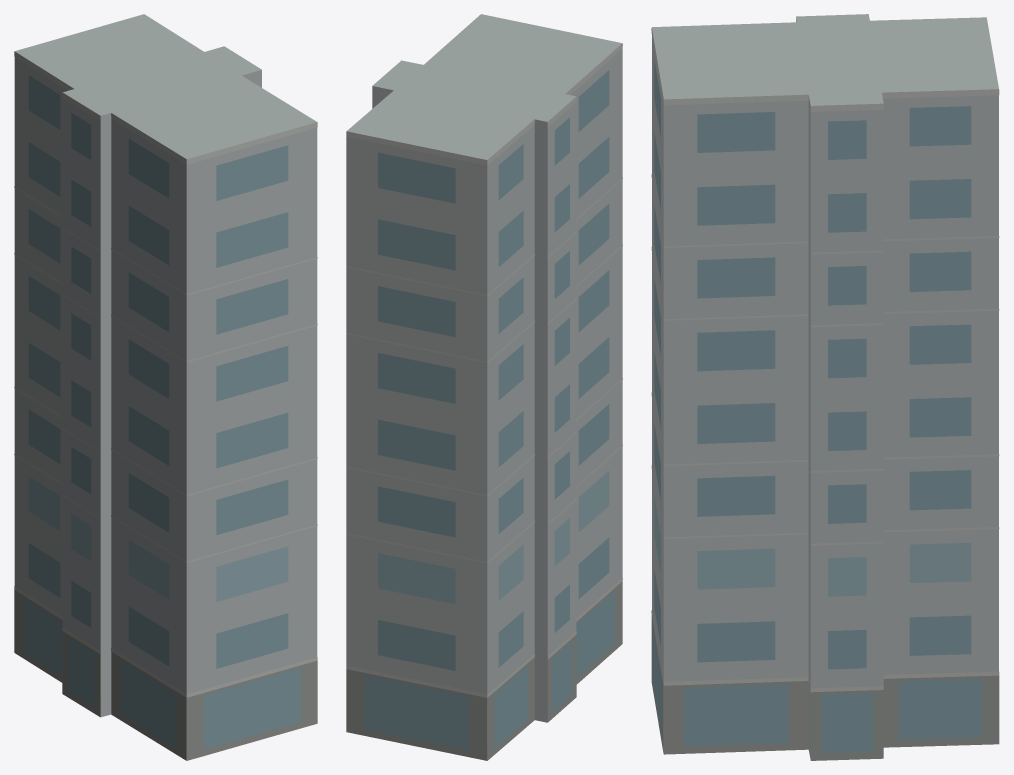
File: survey-upis-32744444.glb
The picture shows the model from 3 angles, left to right: view 1: azimuth 30°, elevation 25°; view 2: azimuth 150°, elevation 25°; view 3: azimuth 270°, elevation 25°; orthographic projection. The views are drawn at different scales.
Parts seen in each view (by area): view 1: survey-upis-32744444.tmp; view 2: survey-upis-32744444.tmp; view 3: survey-upis-32744444.tmp.
Part boxes in pixels (x1=…): survey-upis-32744444.tmp: x1=14, y1=14, x2=317, y2=760; survey-upis-32744444.tmp: x1=346, y1=14, x2=622, y2=760; survey-upis-32744444.tmp: x1=651, y1=14, x2=999, y2=760.
Size of the model in its own units: 7.94 by 26.3 by 12.67.
